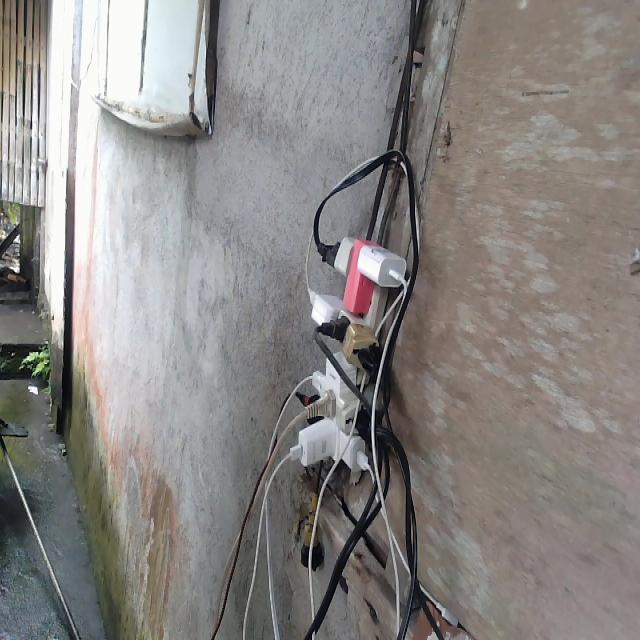-: (287, 233, 406, 475)
